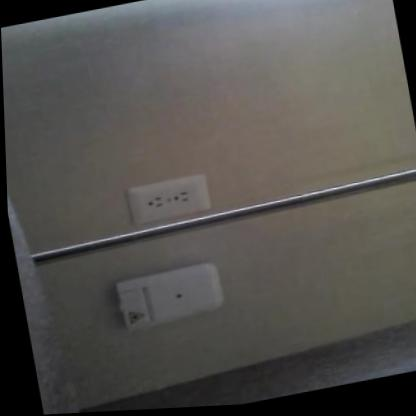OUTLET: (126, 171, 212, 225)
